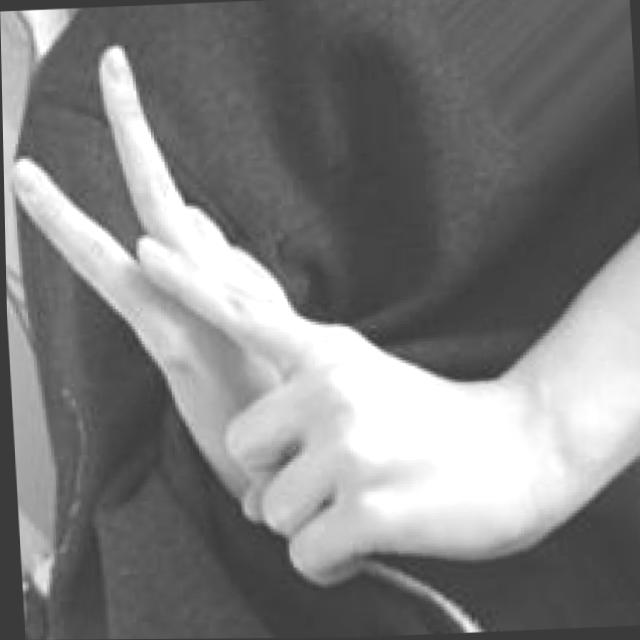Y: (7, 23, 542, 598)
